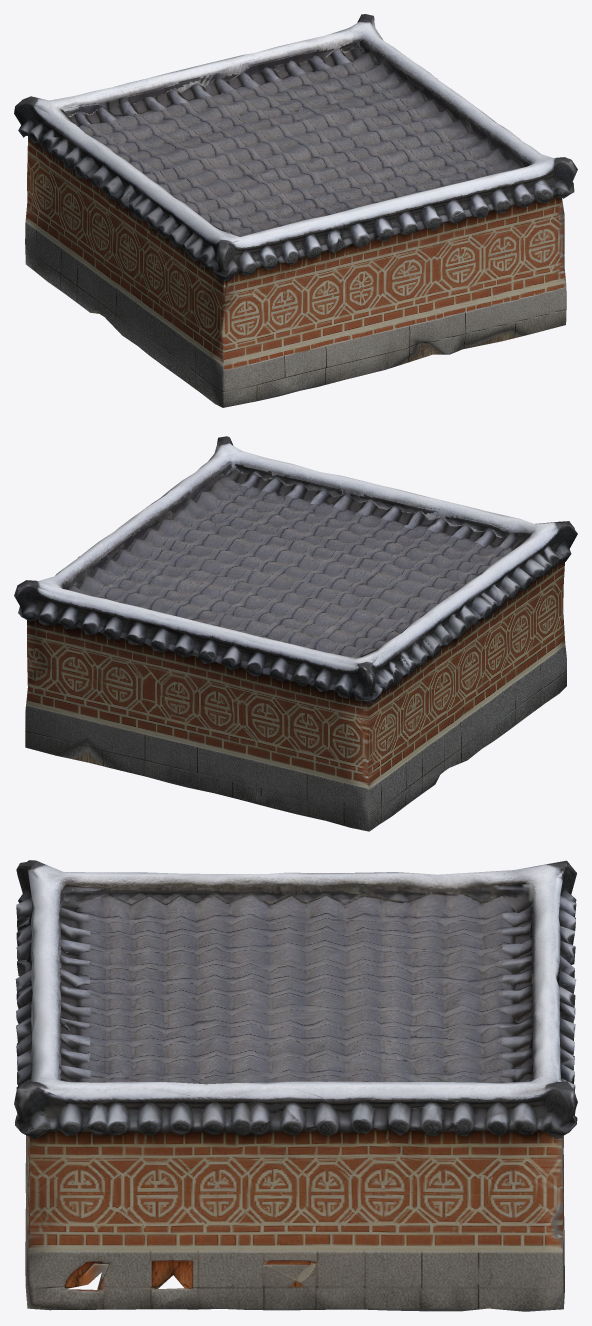
The model's file is PR_InnerCourtWall.fbx.
The picture shows the model from 3 angles, top to bottom: view 1: azimuth 30°, elevation 25°; view 2: azimuth 150°, elevation 25°; view 3: azimuth 270°, elevation 25°; orthographic projection. The views are drawn at different scales.
Visible parts, largest first — view 1: texture_mapping; view 2: texture_mapping; view 3: texture_mapping.
Boxes of the visible parts, x1=… form: texture_mapping: x1=14, y1=14, x2=577, y2=407; texture_mapping: x1=14, y1=436, x2=577, y2=831; texture_mapping: x1=14, y1=860, x2=577, y2=1311.
Bounding box in the file's own units: 1 × 0.9997 × 0.4434.
Materials: 1 (1 with a texture image).
